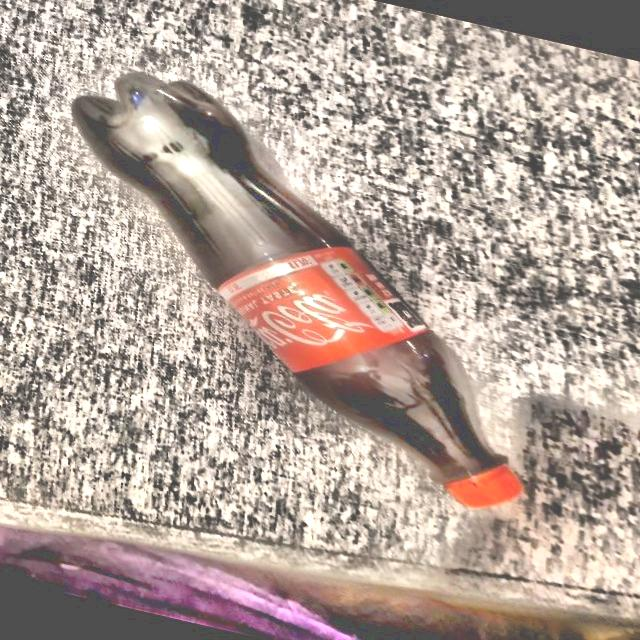coke-bottle: (80, 59, 532, 505)
